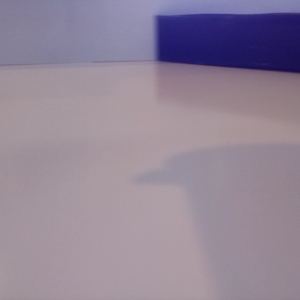zone: (156, 12, 300, 74)
